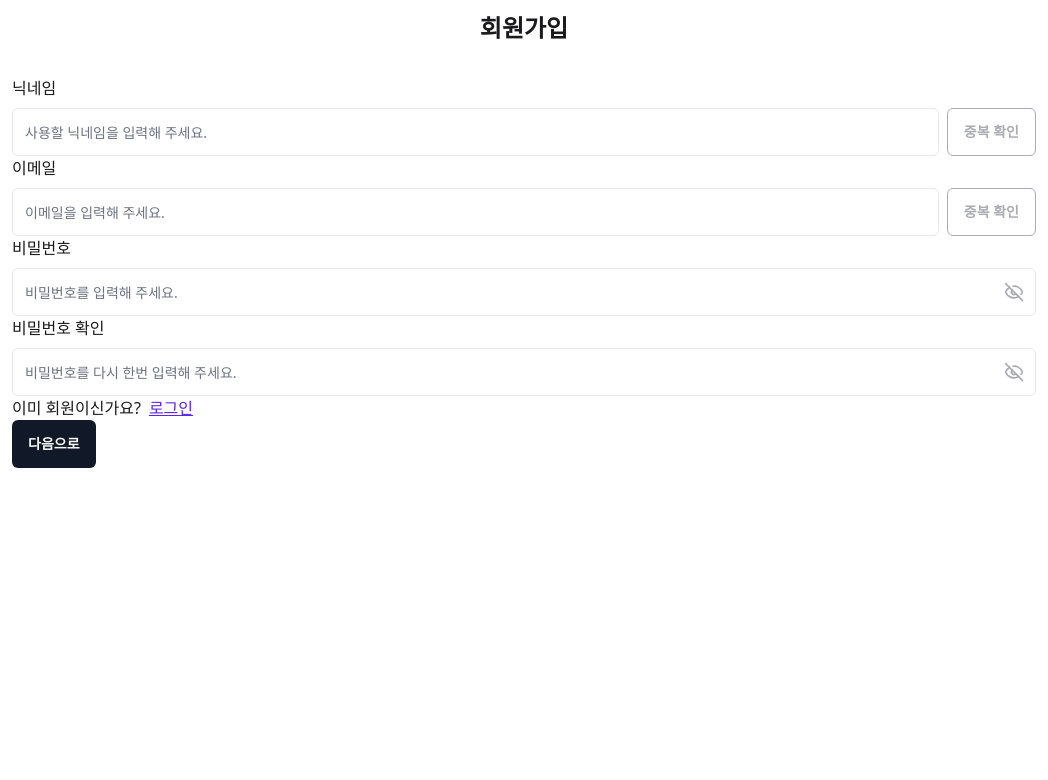
Test: StepOne 컴포넌트 › 유효성 검사 › 닉네임이 2자 미만이면 에러 메시지가 표시된다
The width and height of the screenshot is (1048, 780).
Type "김" into the field with placeholder "사용할 닉네임을 입력해 주세요." at (475, 132), box top-left (12, 108), bottom-right (939, 156)
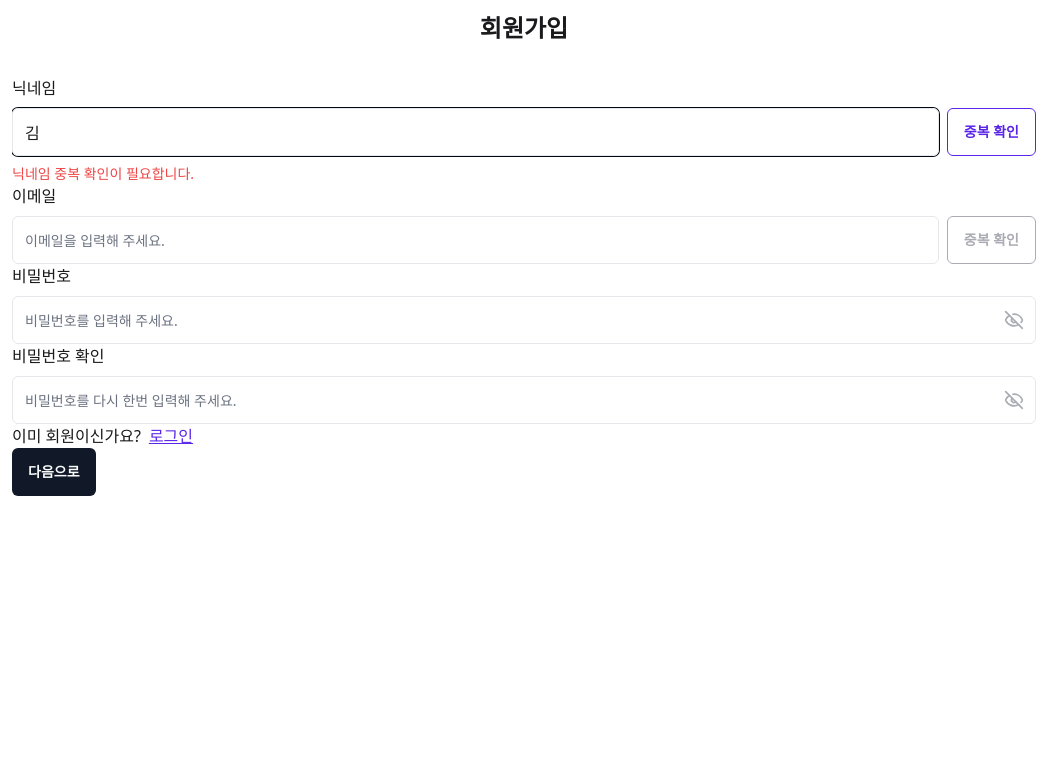
Click the button "다음으로" at (54, 472), box top-left (12, 448), bottom-right (96, 496)
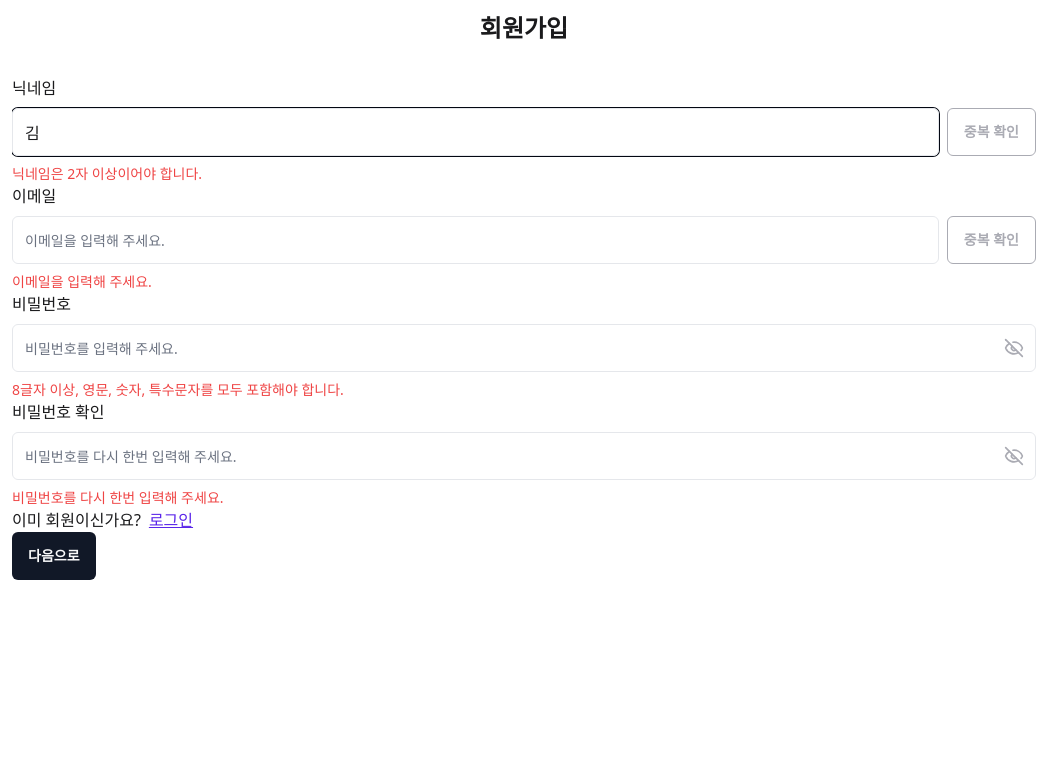
Result: the text "닉네임은 2자 이상이어야 합니다." is shown at top-left (12, 164), bottom-right (202, 183)
